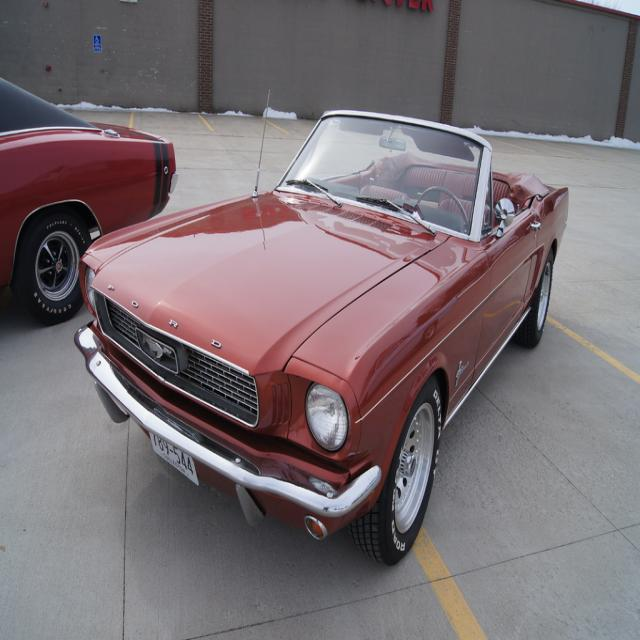car: (69, 123, 559, 556)
